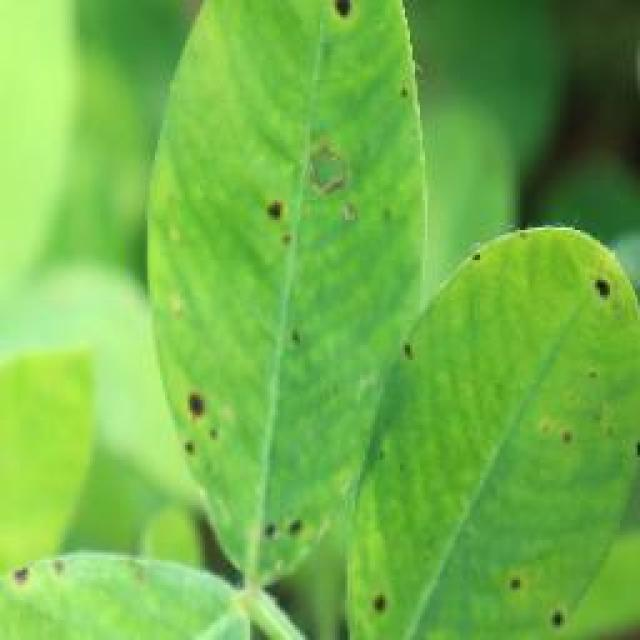Sigatoka: (313, 0, 414, 110), (545, 368, 640, 468), (151, 378, 239, 478), (492, 556, 602, 628), (306, 146, 378, 252), (371, 318, 436, 388), (248, 505, 332, 551), (564, 273, 622, 326), (262, 190, 311, 250), (355, 580, 391, 620), (284, 314, 316, 354), (461, 247, 498, 281)
